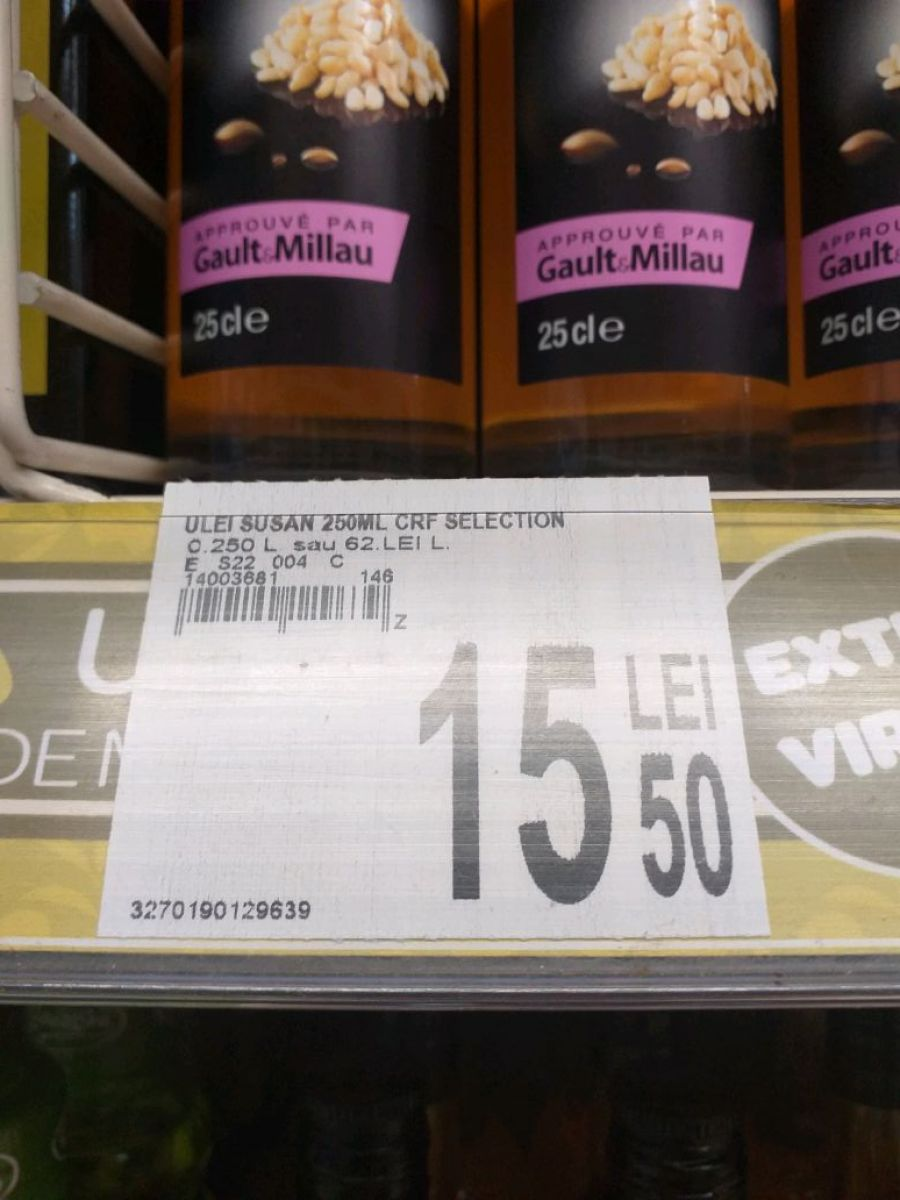price_bani: (619, 747, 746, 908)
price_lei: (406, 631, 623, 911)
price_tag: (57, 459, 789, 978)
product_id: (119, 889, 325, 931)
product_name: (179, 500, 578, 538)
